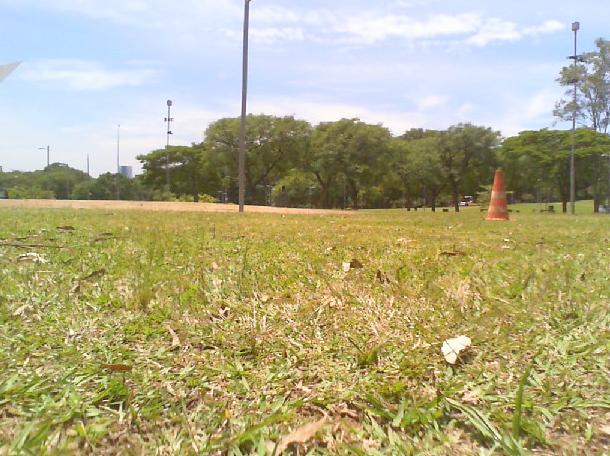0 cone: (482, 168, 518, 221)
